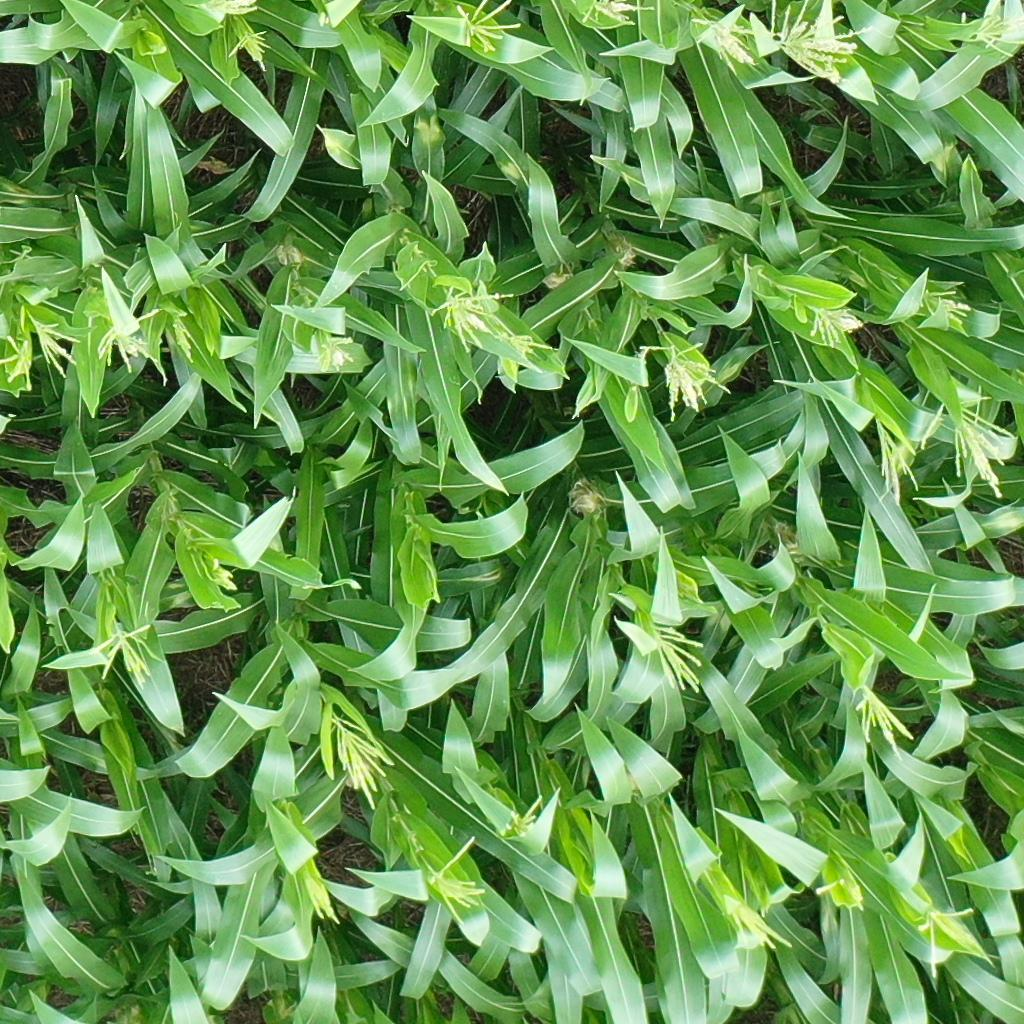Tassel: (921, 400, 1016, 500), (768, 1, 875, 83), (641, 339, 735, 421), (331, 710, 399, 813), (93, 304, 173, 387), (428, 284, 516, 353), (915, 901, 986, 982), (428, 831, 485, 929), (690, 7, 764, 77), (855, 684, 919, 762), (89, 624, 165, 689), (648, 620, 707, 692), (453, 1, 525, 55), (729, 896, 794, 953), (876, 416, 918, 504), (31, 310, 85, 378), (955, 8, 1024, 58), (497, 324, 560, 375), (808, 305, 864, 348), (299, 871, 342, 926), (578, 1, 660, 27), (228, 30, 276, 73), (504, 791, 542, 841), (816, 872, 867, 908), (311, 336, 357, 374), (1, 330, 33, 383), (171, 315, 202, 362), (934, 290, 971, 328), (205, 556, 240, 593), (203, 1, 265, 20)
